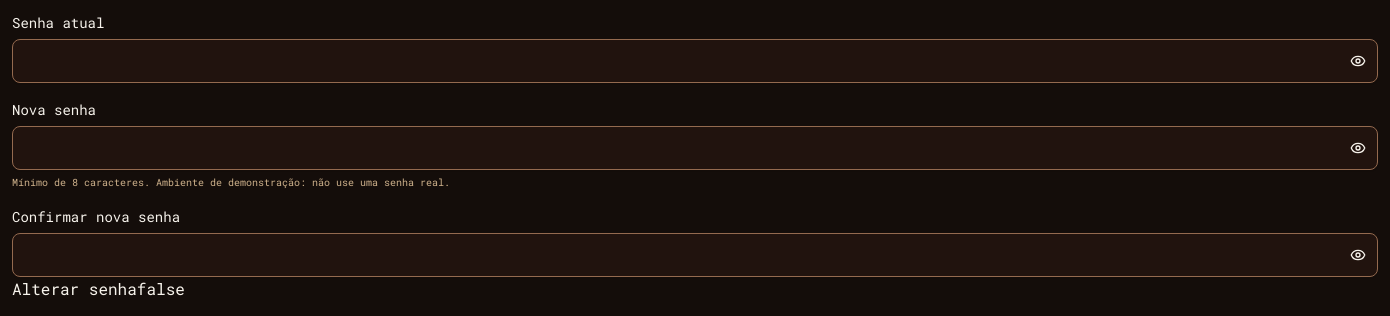
Test: PasswordFields + usePasswordForm › touched só com algum campo preenchido
expect the text with test id "touched" reads "false": met, box x1=137 y1=278 x2=185 y2=299
Type "x" into the password field labelled "Nova senha" at (695, 148), box x1=12 y1=126 x2=1378 y2=170
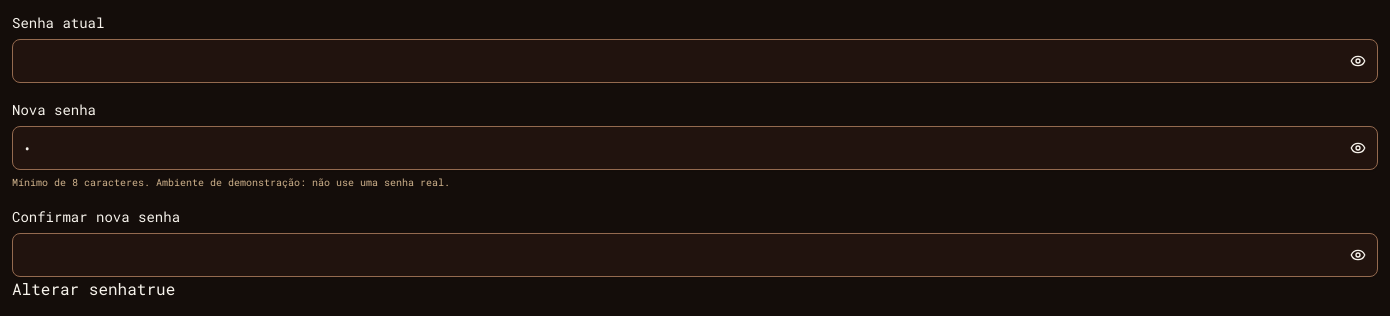
expect the text with test id "touched" reads "true": met, box x1=137 y1=278 x2=175 y2=299
